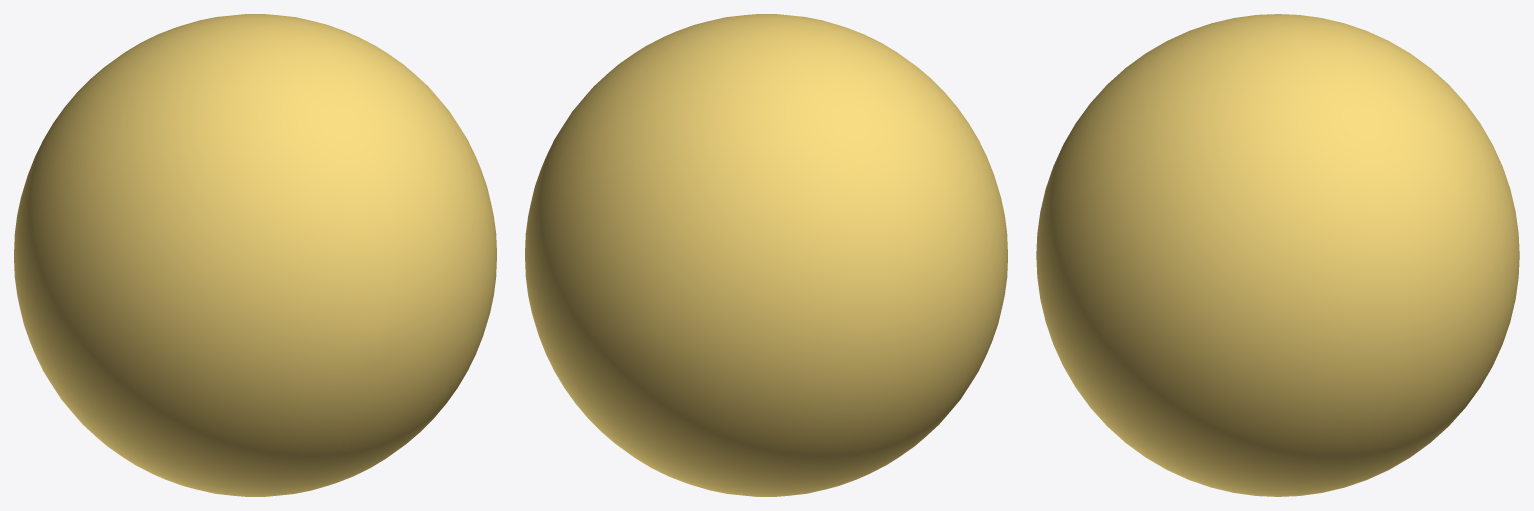
3 renders of one model, left to right at view 1: azimuth 30°, elevation 25°; view 2: azimuth 150°, elevation 25°; view 3: azimuth 270°, elevation 25°, orthographic.
Visible parts, largest first — view 1: NURBSSphere_R15; view 2: NURBSSphere_R15; view 3: NURBSSphere_R15.
Boxes of the visible parts, x1=… form: NURBSSphere_R15: x1=14, y1=14, x2=496, y2=496; NURBSSphere_R15: x1=525, y1=14, x2=1007, y2=496; NURBSSphere_R15: x1=1036, y1=14, x2=1519, y2=496.
Bounding box in the file's own units: 30 × 30 × 30.
